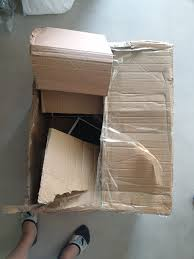damaged package: (23, 28, 117, 211)
